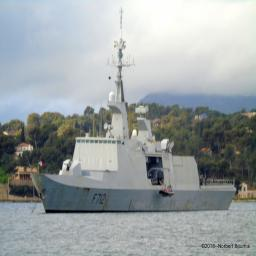Fragata: (30, 6, 237, 219)
